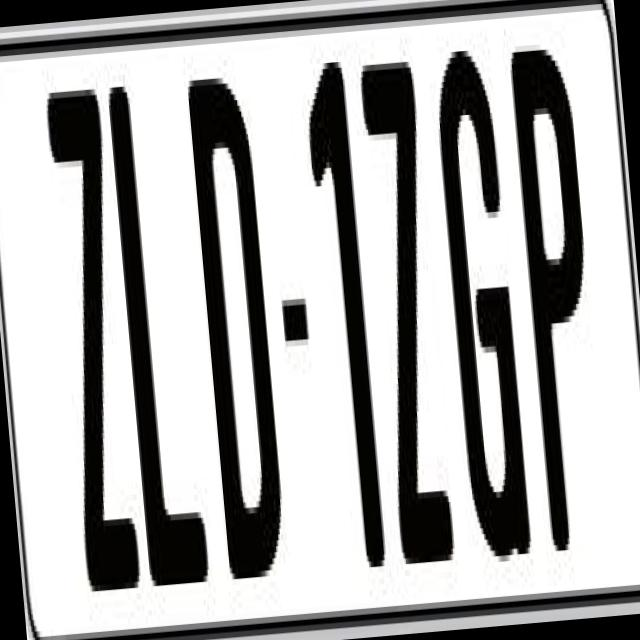1: (297, 61, 388, 575)
D: (182, 59, 285, 590)
G: (426, 37, 528, 558)
L: (104, 82, 210, 610)
P: (506, 29, 608, 534)
Z: (39, 71, 140, 609), (356, 55, 456, 570)
